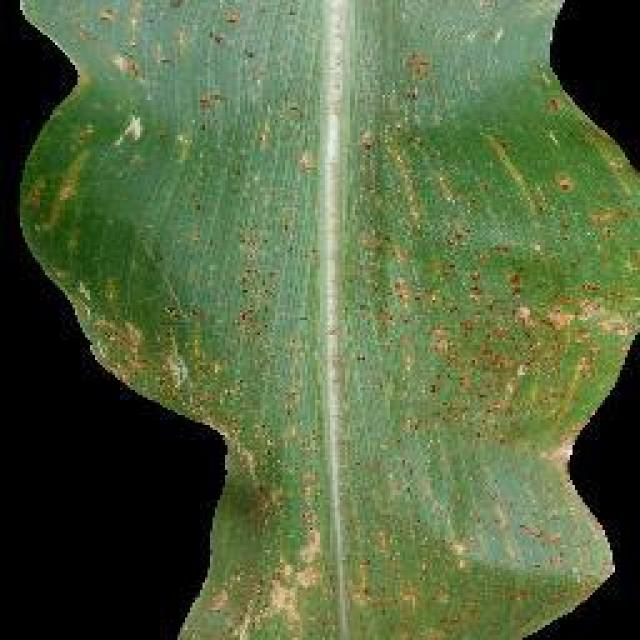Corn Common Rust: (125, 2, 610, 640)
